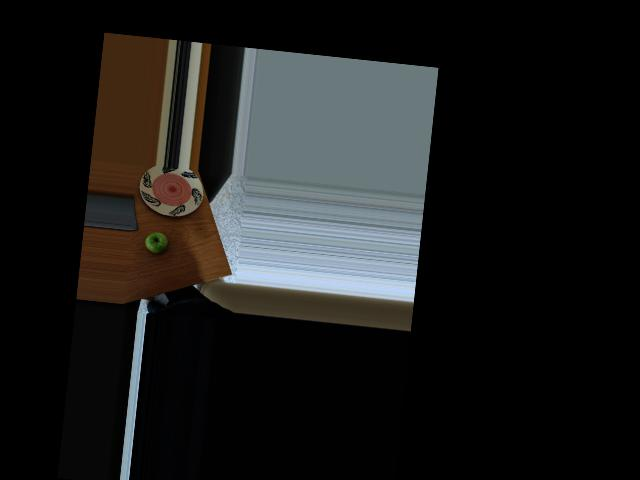apple: (143, 230, 172, 259)
